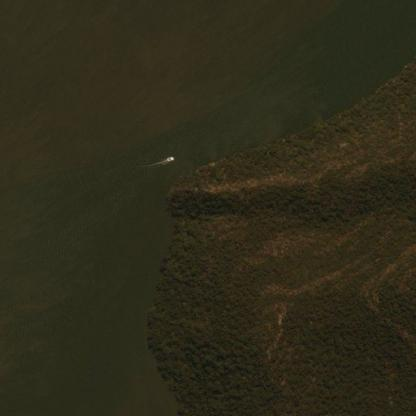ship: (164, 152, 176, 162)
